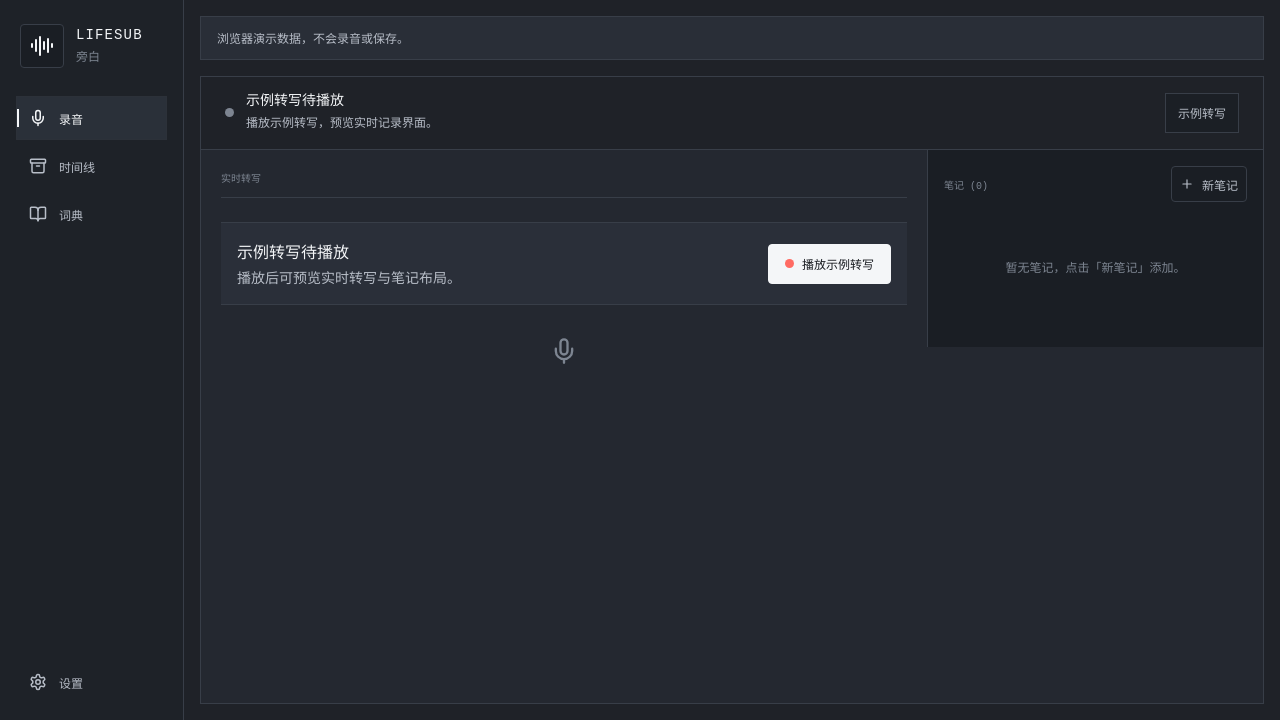
it: LifeSub navigation › navigates to dictionary page
What coordinates should you click on to do the following:
click the button "词典"
I would click on:
 (92, 214)
Its box is left=16, top=192, right=167, bottom=236.
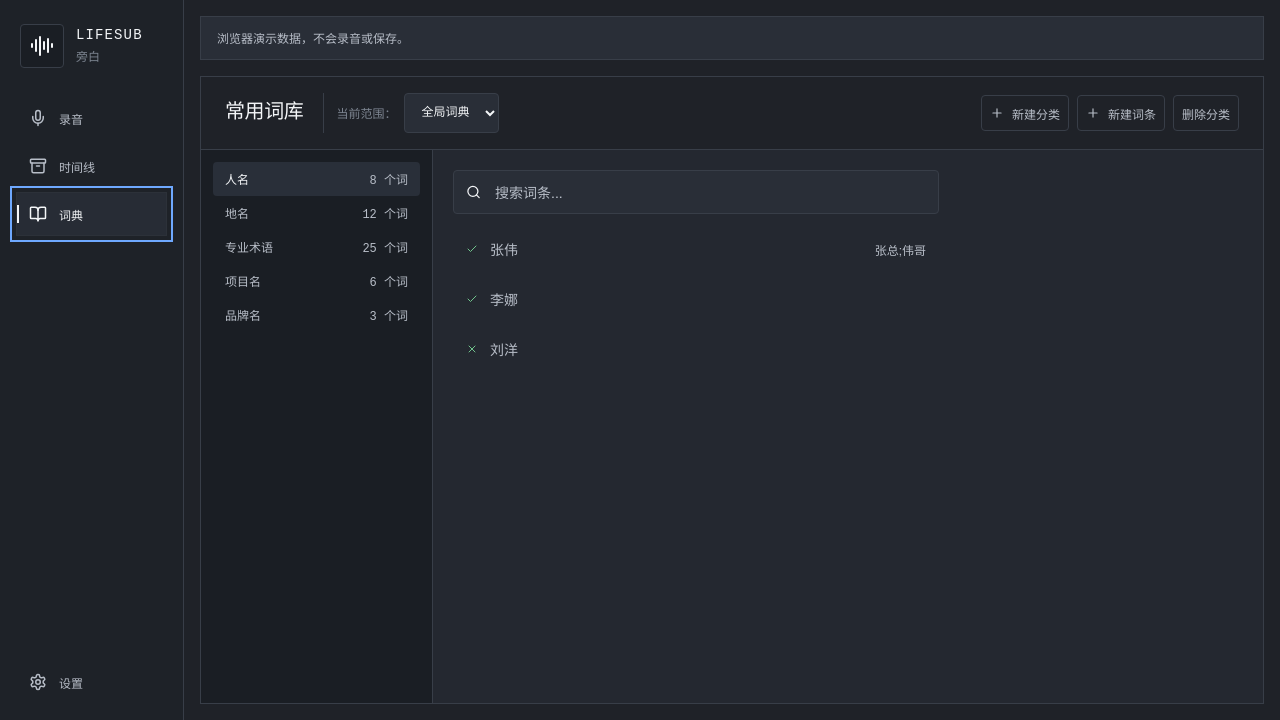
Check: the heading "常用词库" is shown, box left=225, top=95, right=303, bottom=124
